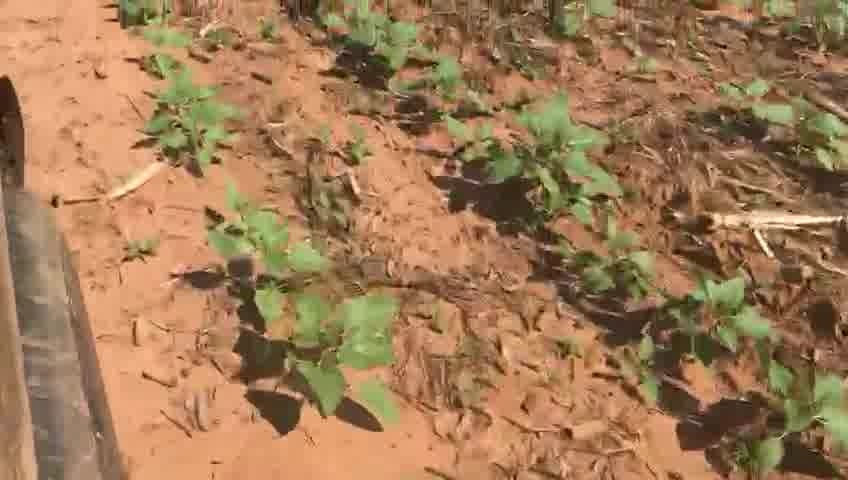sunflower: (442, 100, 620, 221), (278, 288, 410, 428), (643, 280, 770, 406), (206, 205, 328, 320), (713, 362, 840, 472), (140, 79, 241, 174), (557, 247, 656, 313), (350, 9, 416, 75), (406, 54, 472, 108)
